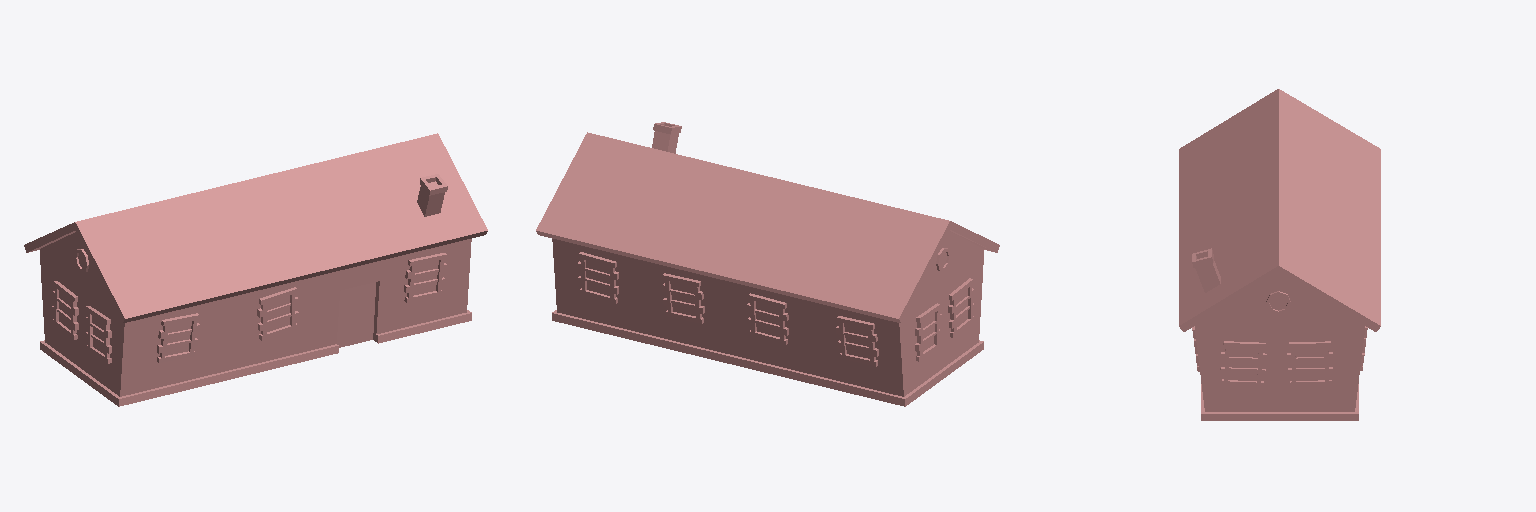
The model's file is house.obj.
The picture shows the model from 3 angles: view 1: azimuth 30°, elevation 25°; view 2: azimuth 150°, elevation 25°; view 3: azimuth 270°, elevation 25°; orthographic projection.
Visible parts, largest first — view 1: h3; view 2: h3; view 3: h3.
Boxes of the visible parts, x1=… form: h3: x1=24, y1=133, x2=487, y2=406; h3: x1=536, y1=122, x2=999, y2=406; h3: x1=1179, y1=89, x2=1380, y2=420.
Bounding box in the file's own units: 13.32 × 5.53 × 6.44.